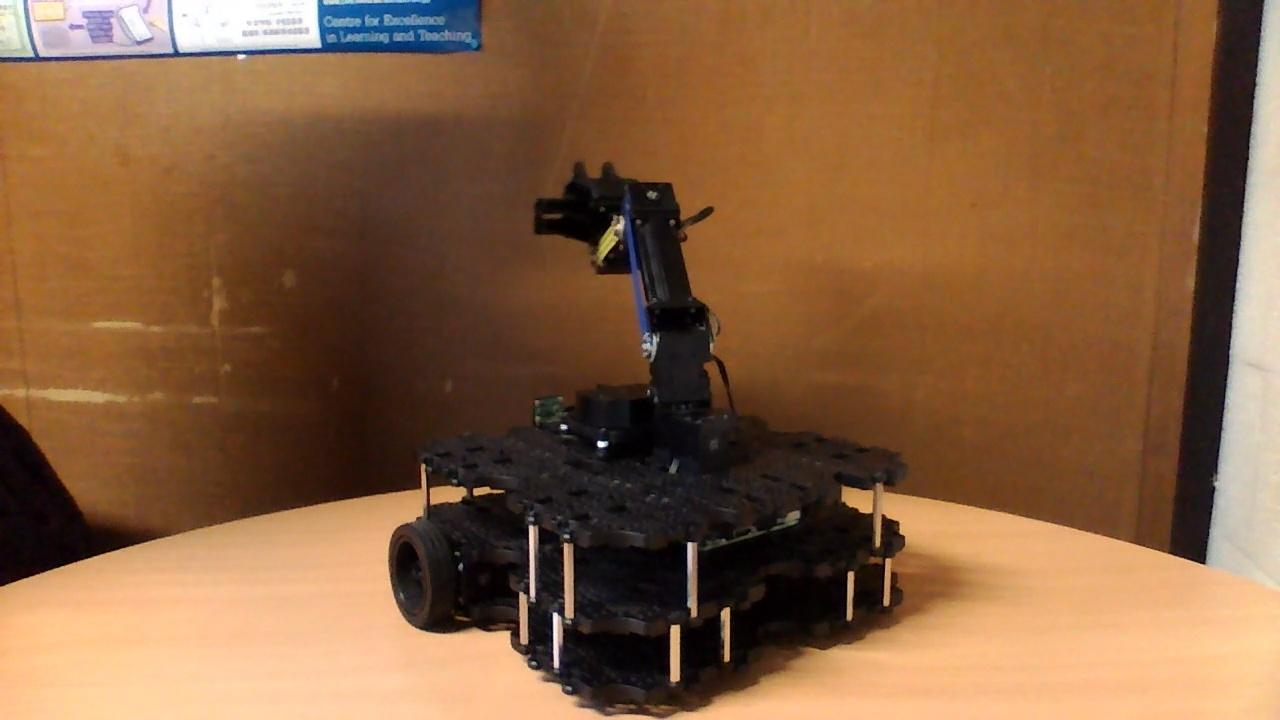Arm: (618, 177, 724, 369)
Hand: (530, 158, 651, 241)
Wrist: (586, 214, 645, 276)
base: (384, 380, 912, 707)
